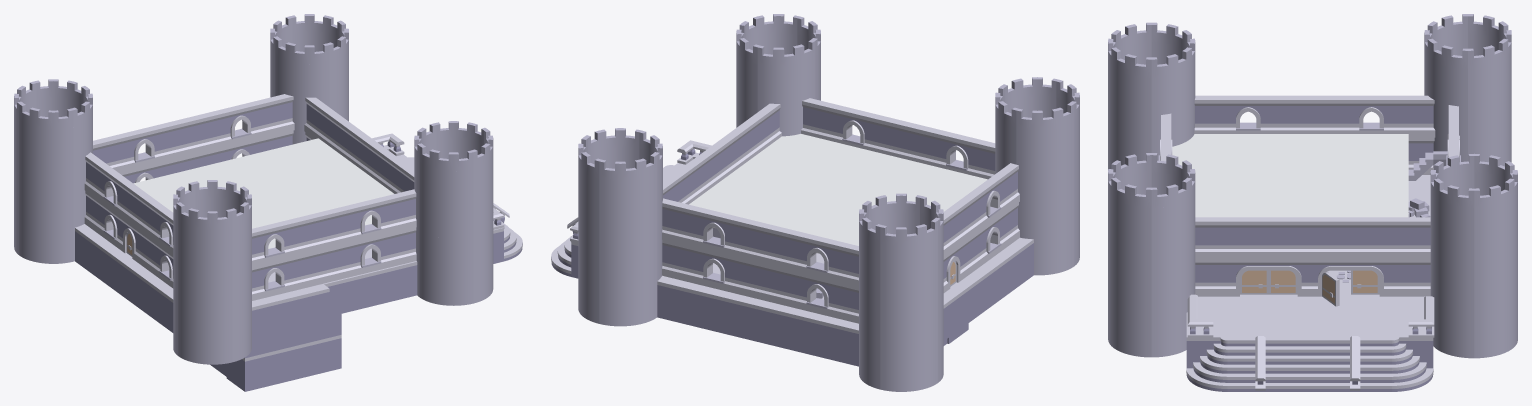
Rendered from castle.glb.
3 renders of one model, left to right at view 1: azimuth 30°, elevation 25°; view 2: azimuth 150°, elevation 25°; view 3: azimuth 270°, elevation 25°, orthographic. The views are drawn at different scales.
Visible parts, largest first — view 1: castle; view 2: castle; view 3: castle.
Part boxes in pixels (x1,y1,x2,y2): castle: (14,14,522,391); castle: (551,14,1079,391); castle: (1108,14,1517,391).
Bounding box in the file's own units: 12.28 × 6.5 × 9.98.
